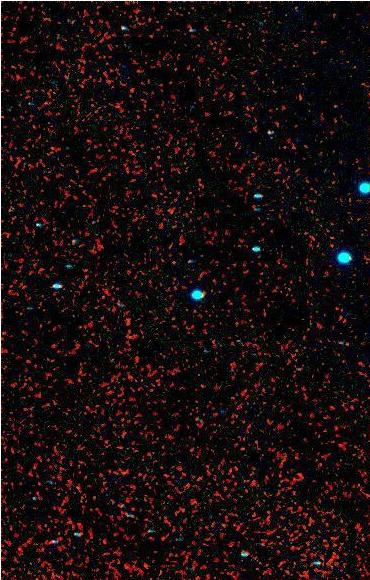star: (159, 245, 189, 275)
